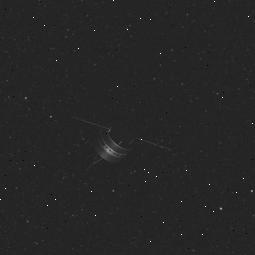double_start: (82, 112, 157, 172)
